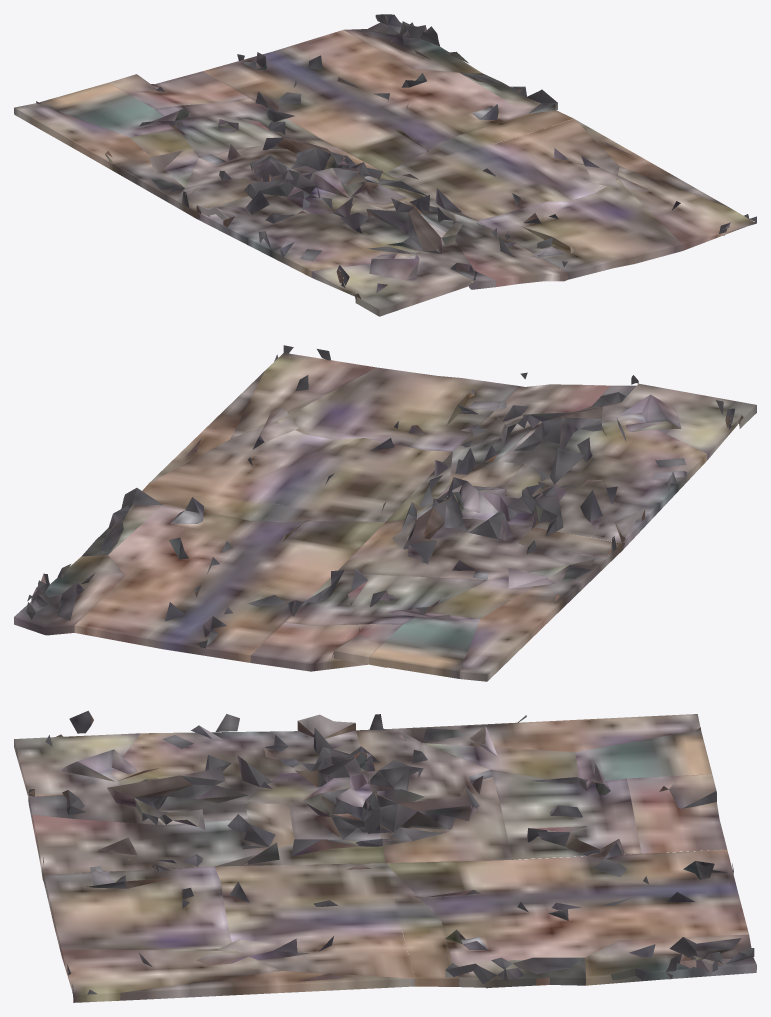
3 renders of one model, top to bottom at view 1: azimuth 30°, elevation 25°; view 2: azimuth 150°, elevation 25°; view 3: azimuth 270°, elevation 25°, orthographic. The views are drawn at different scales.
Visible parts, largest first — view 1: Mesh_0; view 2: Mesh_0; view 3: Mesh_0.
Boxes of the visible parts, x1,y1,x2,y2 form: Mesh_0: [14, 14, 756, 316]; Mesh_0: [14, 345, 756, 681]; Mesh_0: [14, 710, 756, 1002].
Bounding box in the file's own units: 532 × 74.09 × 659.
Materials: 1 (1 with a texture image).
